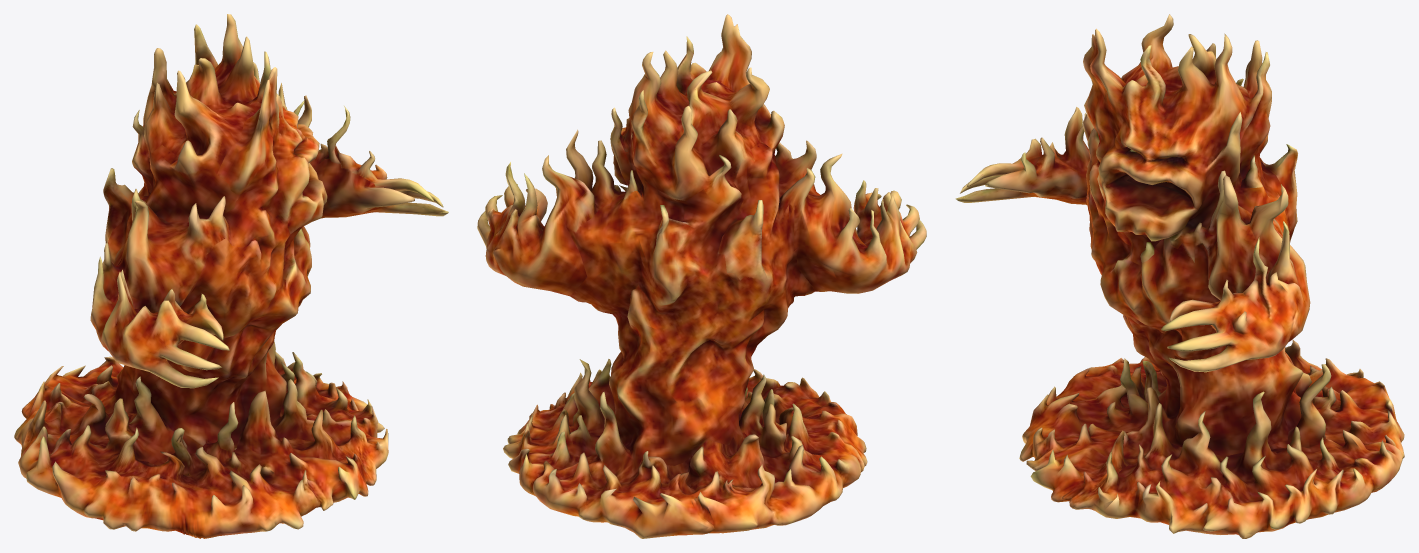
Rendered from MZ4250 - Elemental, Fire_alt.glb.
3 views of the same model, side by side, from view 1: azimuth 30°, elevation 25°; view 2: azimuth 150°, elevation 25°; view 3: azimuth 270°, elevation 25° (orthographic). The views are drawn at different scales.
Visible parts, largest first — view 1: Square.001; view 2: Square.001; view 3: Square.001.
Part boxes in pixels (box(x1,y1,x2,y2)): Square.001: box(14, 14, 448, 538); Square.001: box(477, 14, 926, 538); Square.001: box(955, 14, 1404, 538).
Size of the model in its own units: 1.52 by 1.62 by 1.48.
Materials: 1 (1 with a texture image).
